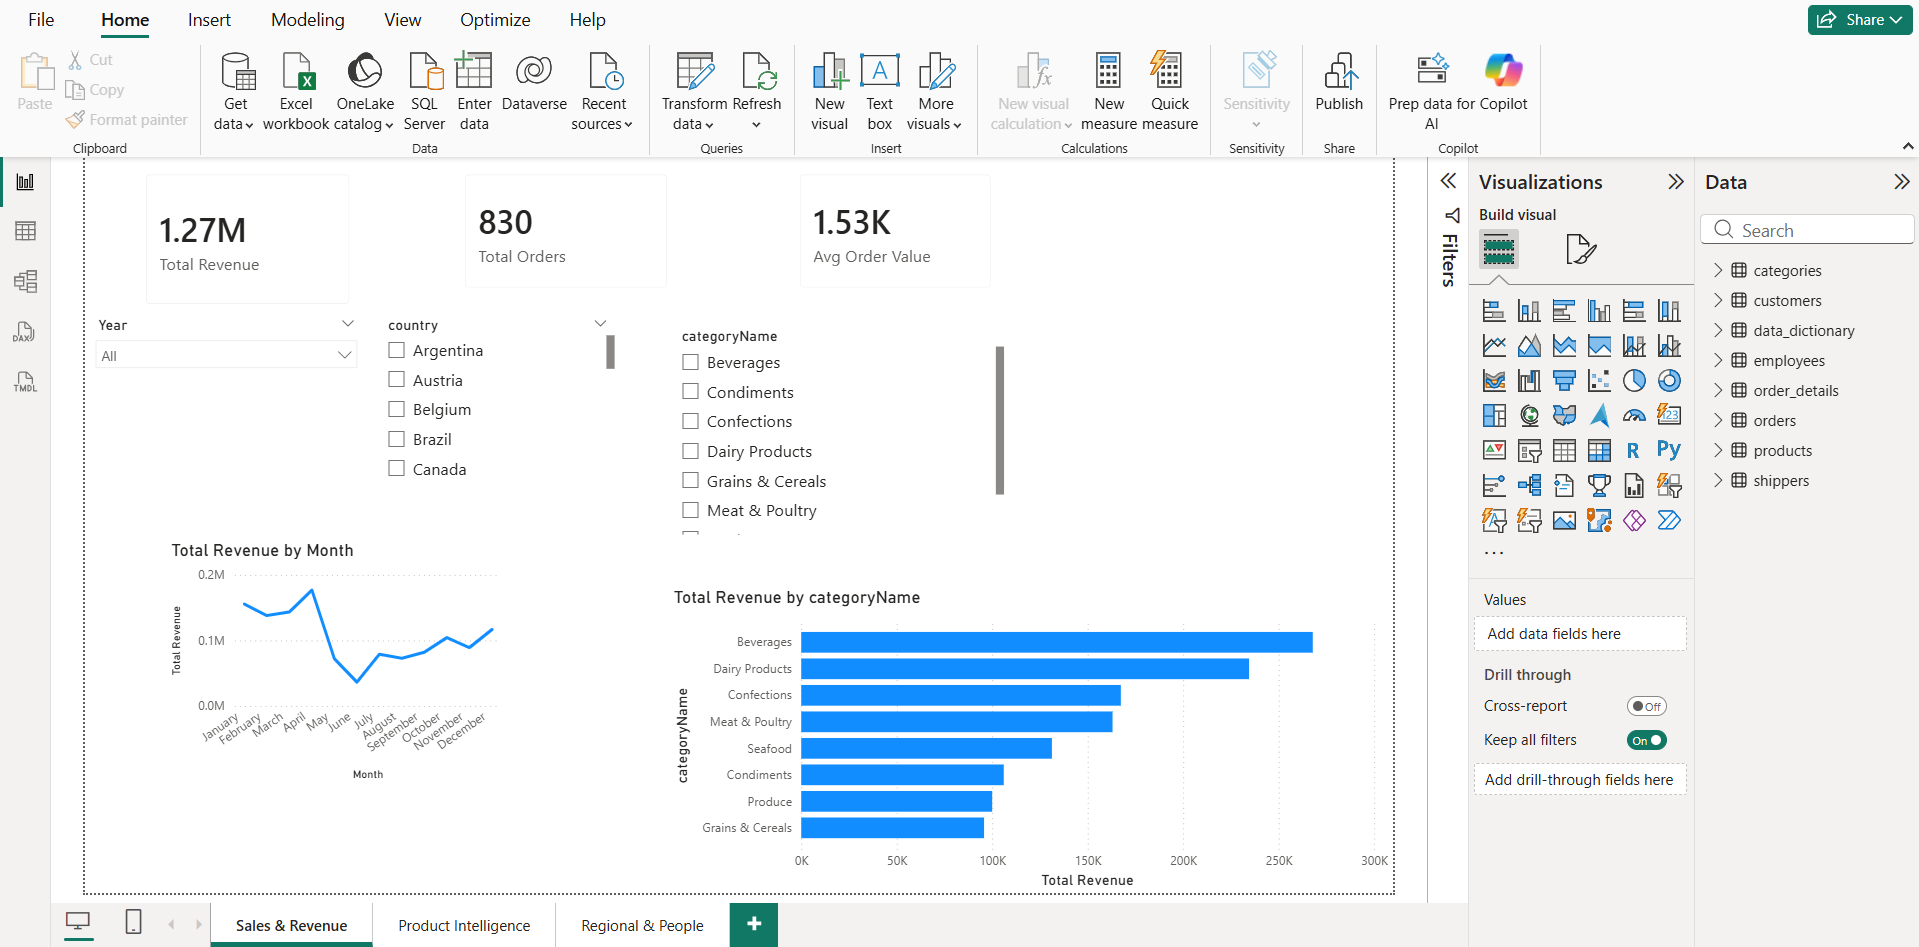

This screenshot's page, from the dashboard's own definition file:
{"tool":"powerbi","page":{"name":"Sales & Revenue","canvas":[1280,720],"ordinal":0},"visuals":[{"type":"cardVisual","fields":{"Data":["categories.Total Revenue"]},"box":[42.8,0,233.6,161.4],"z":0},{"type":"cardVisual","fields":{"Data":["categories.Total Orders"]},"box":[354.6,0,232.3,145.5],"z":1000},{"type":"cardVisual","fields":{"Data":["categories.Avg Order Value"]},"box":[682.3,0,221.3,145.5],"z":2000},{"type":"lineChart","fields":{"Category":["orders.orderDate.Variation.Date Hierarchy.Month"],"Y":["categories.Total Revenue"]},"box":[79.5,374.2,332.6,240.9],"z":3000},{"type":"slicer","fields":{"Values":["orders.orderDate.Variation.Date Hierarchy.Year"]},"box":[0,150.4,276.4,111.3],"z":4000},{"type":"slicer","fields":{"Values":["customers.country"]},"box":[283.7,150.4,239.7,172.4],"z":5000},{"type":"slicer","fields":{"Values":["categories.categoryName"]},"box":[571.1,161.4,332.6,212.8],"z":6000},{"type":"clusteredBarChart","fields":{"Category":["categories.categoryName"],"Y":["categories.Total Revenue"]},"box":[571.1,420.7,709.2,299.6],"z":7000}]}

Visuals, with their boxes on the page's 1280x720 design canvas (x1, y1, x2, y2). These are canvas units, not pixel positions in the 1919x947 screenshot, which may show the page scaled, cropped or inside an application window:
cardVisual - categories.Total Revenue: BBox(43, 0, 276, 161)
cardVisual - categories.Total Orders: BBox(355, 0, 587, 146)
cardVisual - categories.Avg Order Value: BBox(682, 0, 904, 146)
lineChart - orders.orderDate.Variation.Date Hierarchy.Month x categories.Total Revenue: BBox(80, 374, 412, 615)
slicer - orders.orderDate.Variation.Date Hierarchy.Year: BBox(0, 150, 276, 262)
slicer - customers.country: BBox(284, 150, 523, 323)
slicer - categories.categoryName: BBox(571, 161, 904, 374)
clusteredBarChart - categories.categoryName x categories.Total Revenue: BBox(571, 421, 1280, 720)
